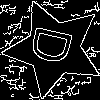D: (29, 24, 83, 69)
